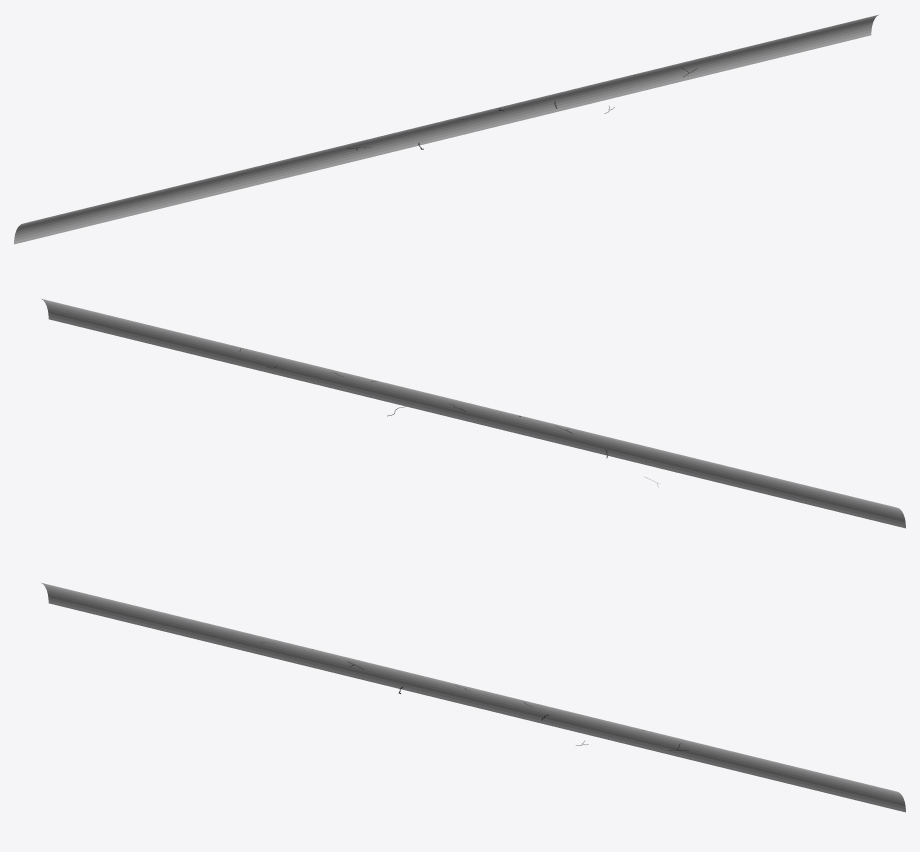
The model's file is tunnel.glb.
3 views of the same model, one above another, from view 1: azimuth 30°, elevation 25°; view 2: azimuth 150°, elevation 25°; view 3: azimuth 330°, elevation 25° (orthographic).
Visible parts, largest first — view 1: Cylinder; view 2: Cylinder; view 3: Cylinder.
Boxes of the visible parts, bbox=[...] form: Cylinder: bbox=[14, 14, 878, 244]; Cylinder: bbox=[41, 298, 905, 528]; Cylinder: bbox=[41, 582, 905, 812].
Bounding box in the file's own units: 10 × 0.35 × 0.7.
Materials: 10 (10 with a texture image).
